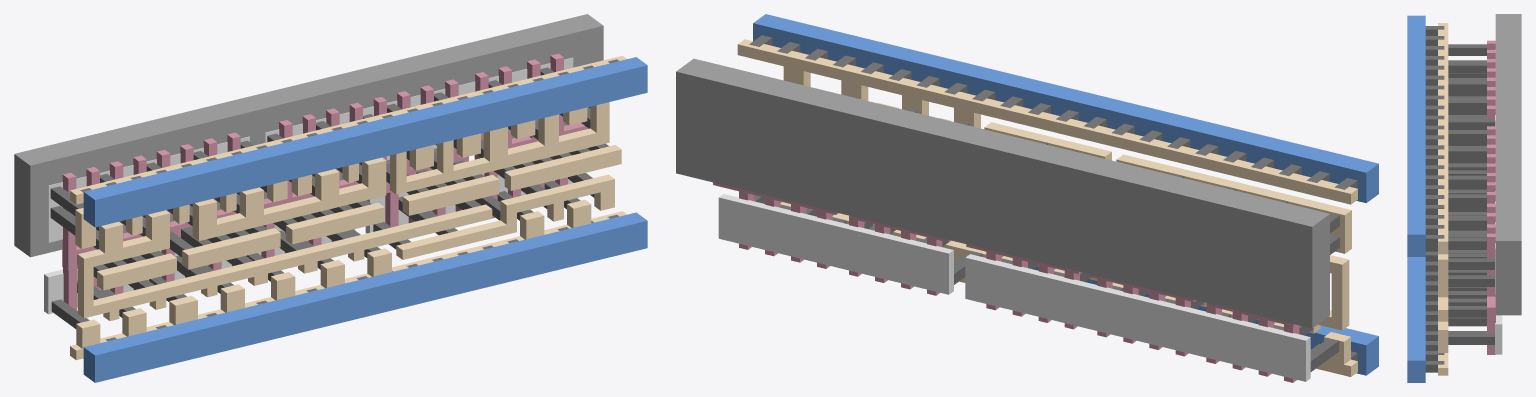
Rendered from sky130_fd_sc_hd__a2111oi_4.gds.gltf.
3 renders of one model, left to right at view 1: azimuth 30°, elevation 25°; view 2: azimuth 150°, elevation 25°; view 3: azimuth 270°, elevation 25°, orthographic. The views are drawn at different scales.
Visible parts, largest first — view 1: sky130_fd_sc_hd__a2111oi_4_li1, sky130_fd_sc_hd__a2111oi_4_met1, sky130_fd_sc_hd__a2111oi_4_nwell, sky130_fd_sc_hd__a2111oi_4_licon, sky130_fd_sc_hd__a2111oi_4_poly, sky130_fd_sc_hd__a2111oi_4_diff, sky130_fd_sc_hd__a2111oi_4_mcon; view 2: sky130_fd_sc_hd__a2111oi_4_nwell, sky130_fd_sc_hd__a2111oi_4_diff, sky130_fd_sc_hd__a2111oi_4_li1, sky130_fd_sc_hd__a2111oi_4_met1, sky130_fd_sc_hd__a2111oi_4_poly, sky130_fd_sc_hd__a2111oi_4_mcon, sky130_fd_sc_hd__a2111oi_4_licon; view 3: sky130_fd_sc_hd__a2111oi_4_licon, sky130_fd_sc_hd__a2111oi_4_nwell, sky130_fd_sc_hd__a2111oi_4_met1, sky130_fd_sc_hd__a2111oi_4_mcon, sky130_fd_sc_hd__a2111oi_4_li1, sky130_fd_sc_hd__a2111oi_4_poly, sky130_fd_sc_hd__a2111oi_4_diff.
Boxes of the visible parts, x1,y1,x2,y2 form: sky130_fd_sc_hd__a2111oi_4_li1: (70,55,626,360); sky130_fd_sc_hd__a2111oi_4_met1: (83,57,647,382); sky130_fd_sc_hd__a2111oi_4_nwell: (14,14,603,257); sky130_fd_sc_hd__a2111oi_4_licon: (50,67,608,328); sky130_fd_sc_hd__a2111oi_4_poly: (62,53,588,310); sky130_fd_sc_hd__a2111oi_4_diff: (44,57,573,314); sky130_fd_sc_hd__a2111oi_4_mcon: (80,59,618,341); sky130_fd_sc_hd__a2111oi_4_nwell: (676,58,1329,328); sky130_fd_sc_hd__a2111oi_4_diff: (718,194,1310,381); sky130_fd_sc_hd__a2111oi_4_li1: (737,39,1357,376); sky130_fd_sc_hd__a2111oi_4_met1: (753,14,1378,375); sky130_fd_sc_hd__a2111oi_4_poly: (713,182,1299,382); sky130_fd_sc_hd__a2111oi_4_mcon: (749,35,1357,360); sky130_fd_sc_hd__a2111oi_4_licon: (754,80,1339,371); sky130_fd_sc_hd__a2111oi_4_licon: (1448,44,1494,344); sky130_fd_sc_hd__a2111oi_4_nwell: (1495,14,1521,315); sky130_fd_sc_hd__a2111oi_4_met1: (1407,15,1425,382); sky130_fd_sc_hd__a2111oi_4_mcon: (1425,26,1444,372); sky130_fd_sc_hd__a2111oi_4_li1: (1438,23,1448,375); sky130_fd_sc_hd__a2111oi_4_poly: (1487,40,1495,354); sky130_fd_sc_hd__a2111oi_4_diff: (1495,49,1502,354).
Size of the model in its own units: 10.5 by 3.2 by 2.24.
